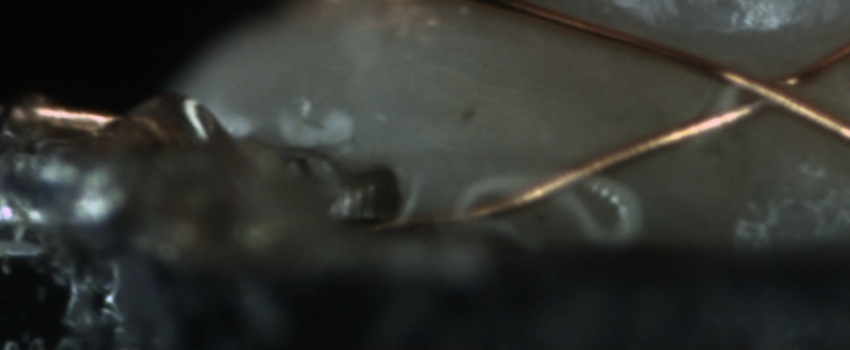CL: (693, 55, 830, 135)
TE: (15, 92, 182, 143)
